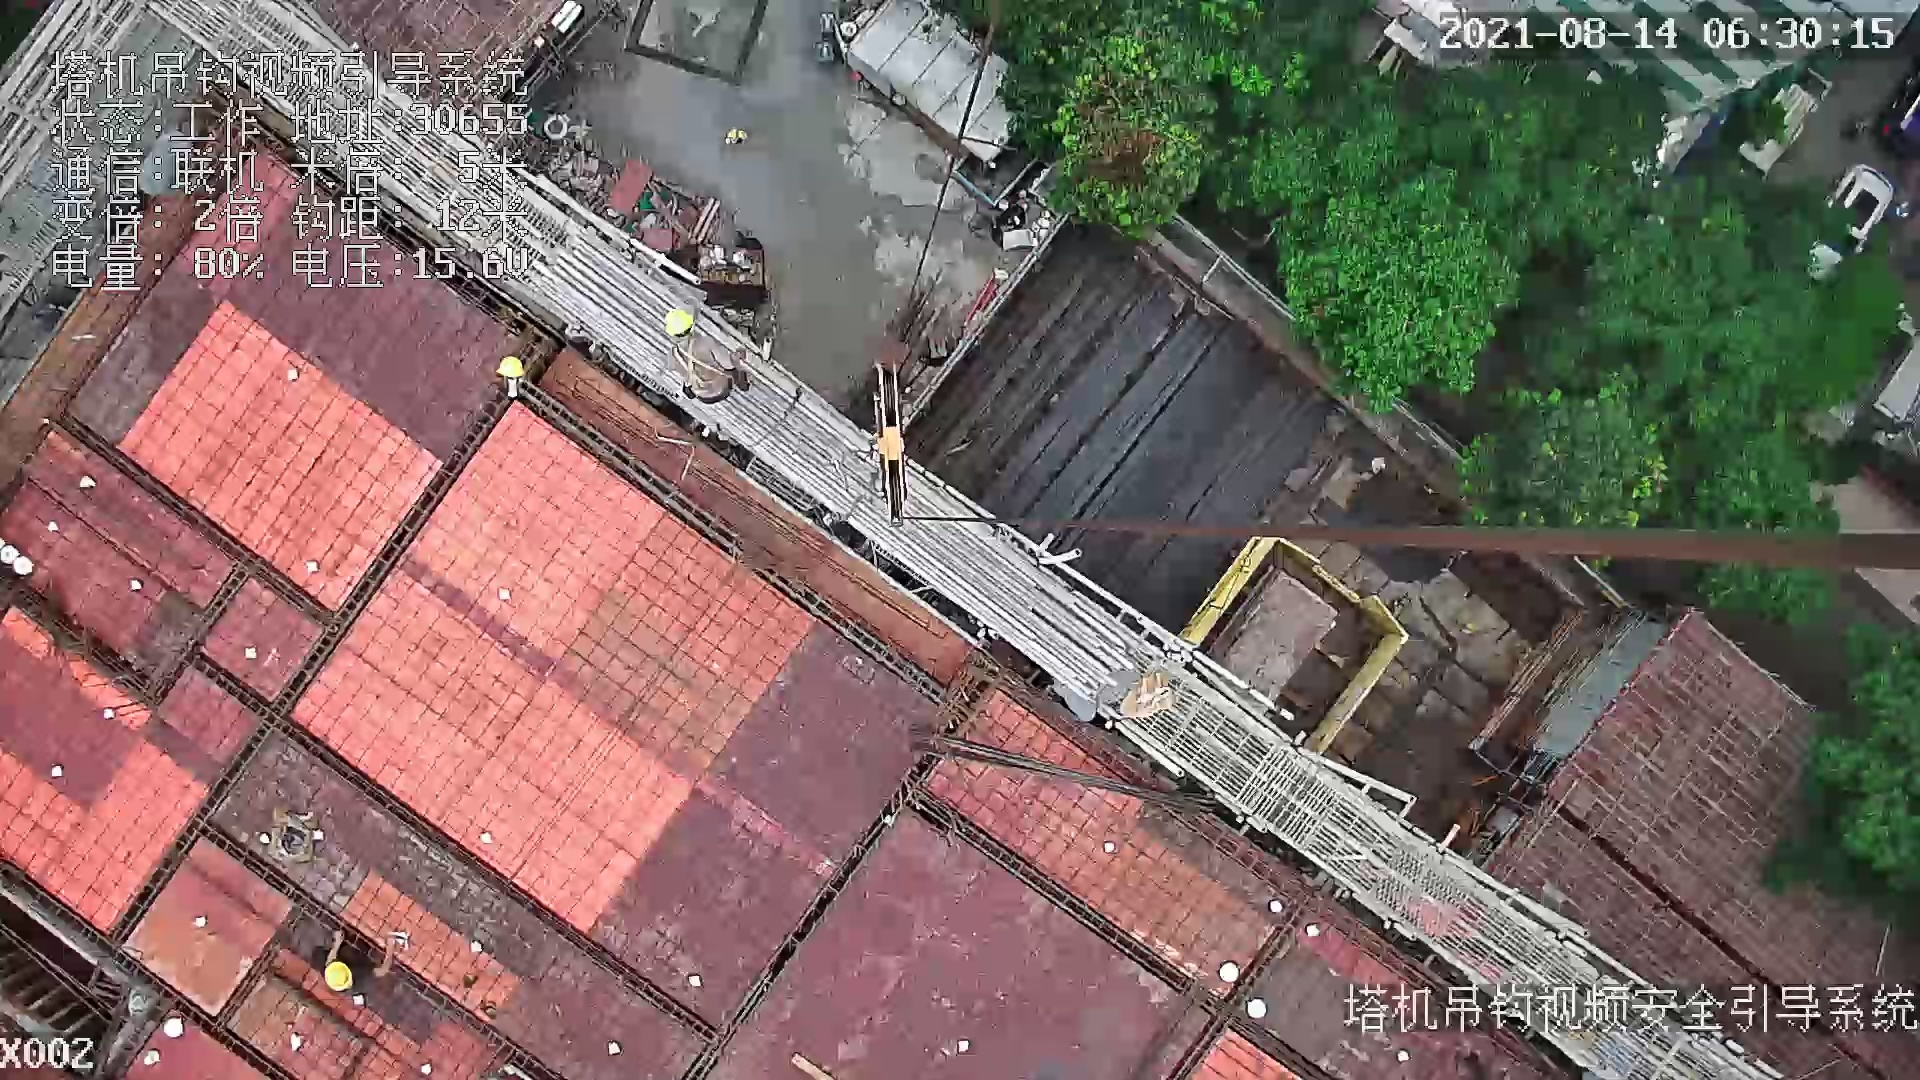helmet: (323, 959, 355, 993), (663, 308, 694, 337), (494, 355, 528, 379)
hook: (868, 359, 912, 528)
person: (655, 297, 749, 403), (312, 922, 405, 1000)
rebar: (936, 237, 1309, 601)
